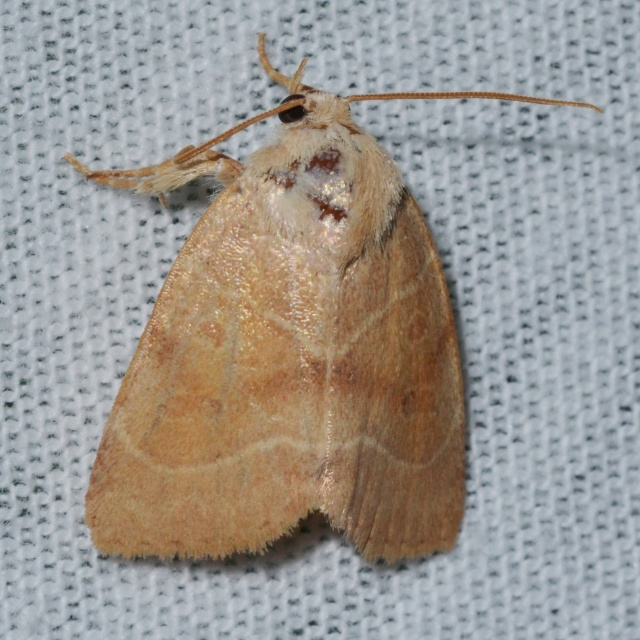Moths and butterflies: (62, 30, 605, 568)
